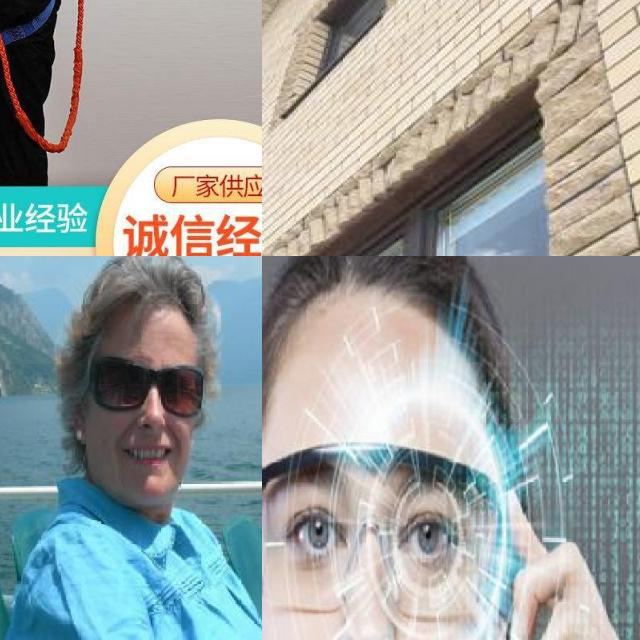face_nomask: (269, 491, 475, 640), (87, 355, 201, 473)
glasses: (262, 438, 506, 623), (76, 356, 202, 416)
hand_noglove: (490, 482, 640, 640)
head_nohelmet: (262, 256, 509, 384), (70, 259, 219, 338)
person: (6, 256, 262, 640)
